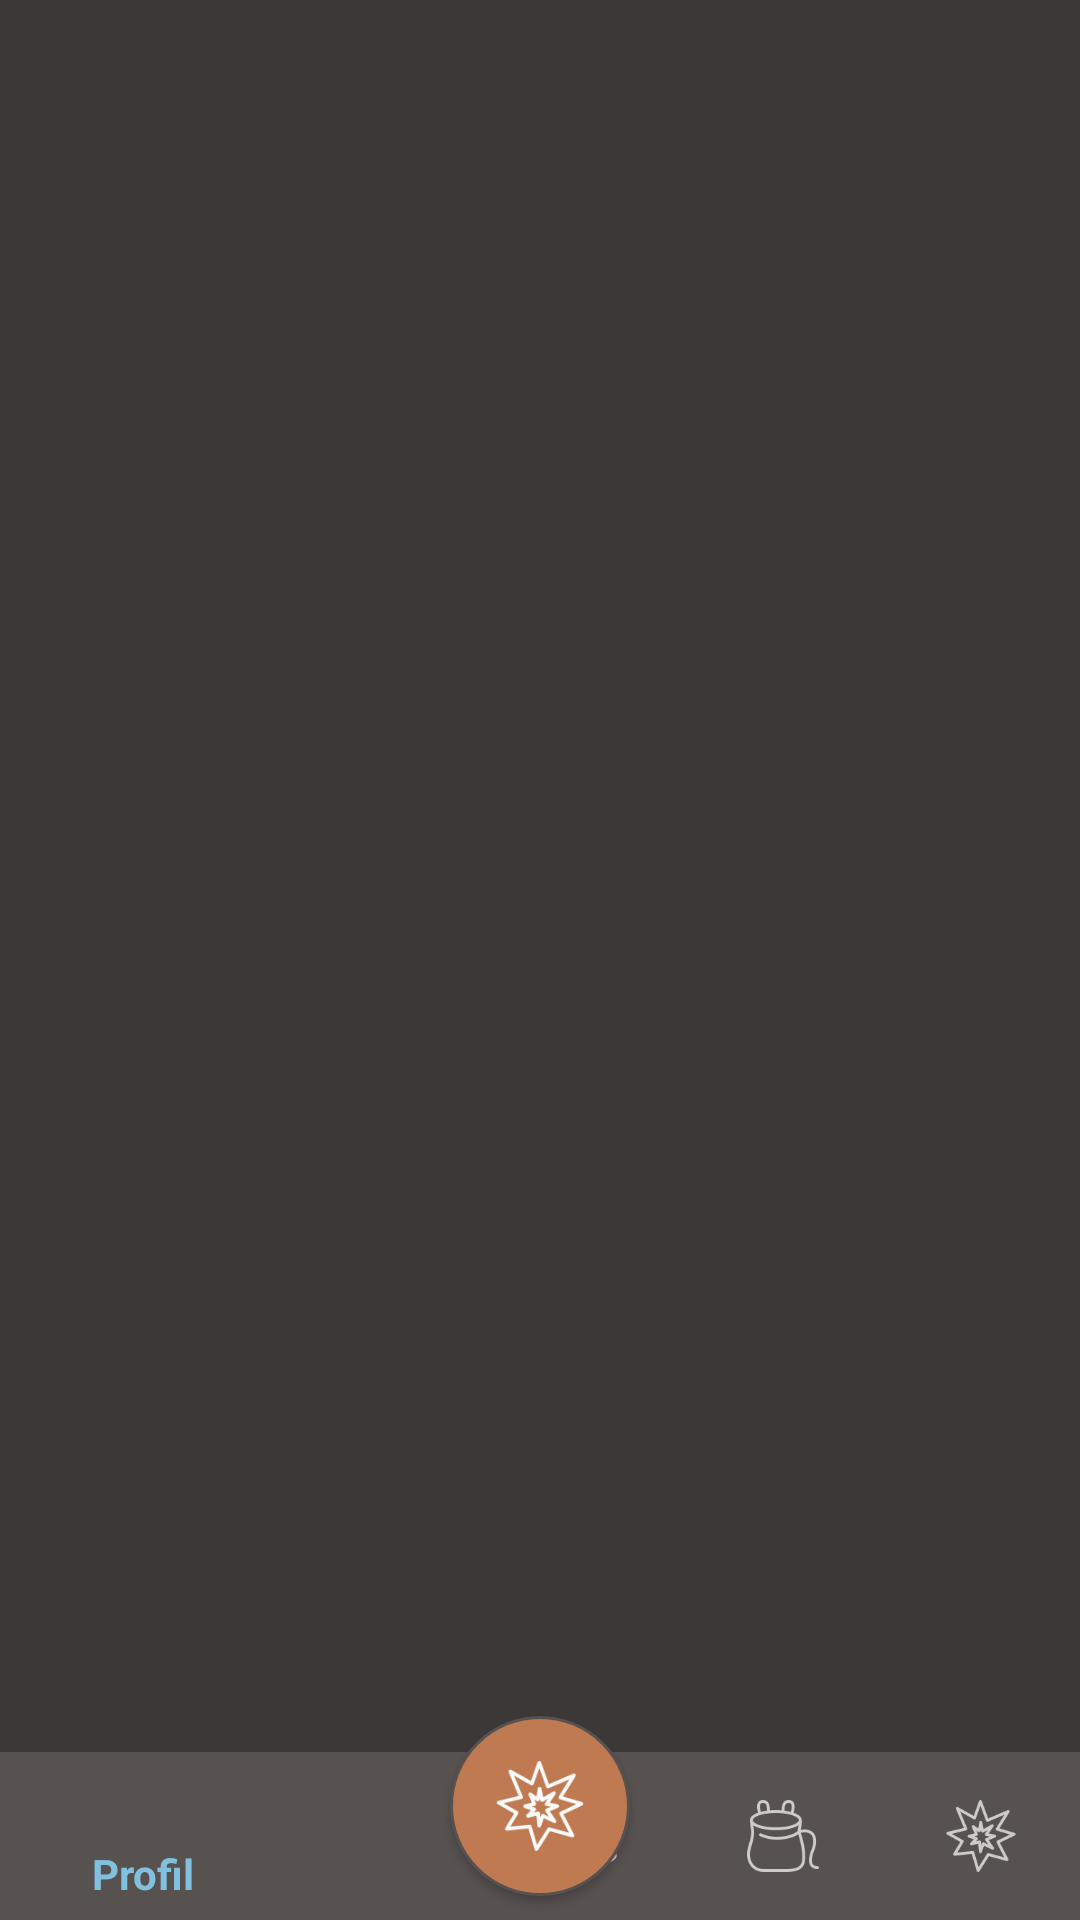

Named icons in this screenshot (1080px×1920px) and their centers, (x=x, y=y):
bang: (x=540, y=1806)
